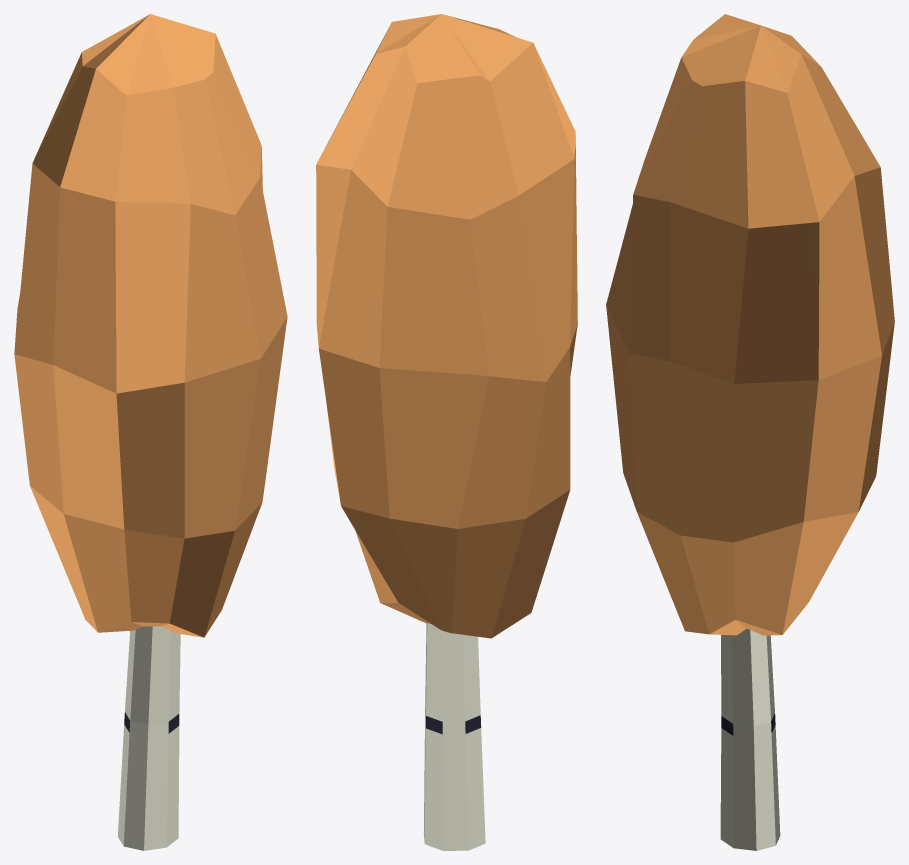
The model's file is Birch3_autumn.FBX.
3 renders of one model, left to right at view 1: azimuth 30°, elevation 25°; view 2: azimuth 150°, elevation 25°; view 3: azimuth 270°, elevation 25°, orthographic.
Visible parts, largest first — view 1: Berezka2.003; view 2: Berezka2.003; view 3: Berezka2.003.
Boxes of the visible parts, x1,y1,x2,y2 form: Berezka2.003: (14,14,287,850); Berezka2.003: (316,14,577,850); Berezka2.003: (606,14,894,850).
Bounding box in the file's own units: 1.89 × 6.58 × 2.11.
